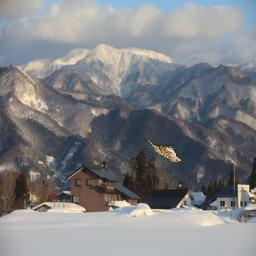Sparrow: (147, 140, 181, 162)
